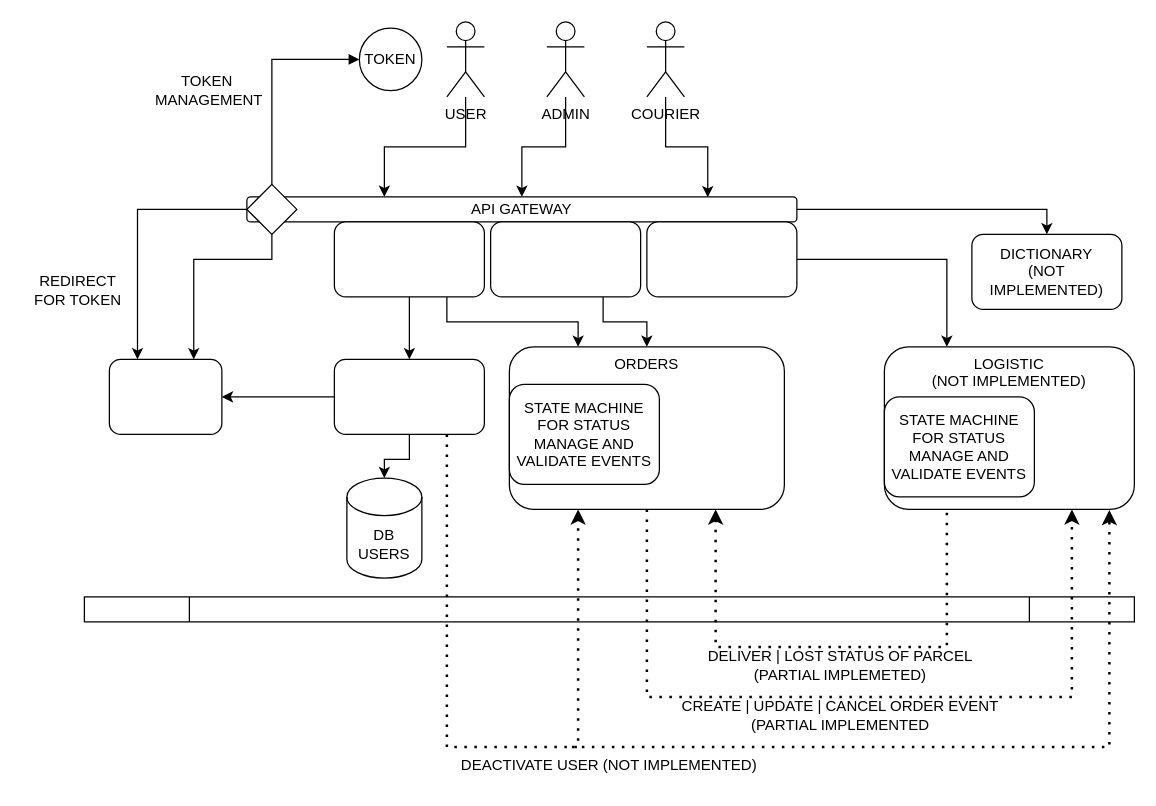
Image size: 1156x806. Some labels were removed from this diagram. Each missing label, with the centre of its shape:
"ADMIN API" goes at (565,259).
"COURIER API" goes at (721,259).
"KEYCLOAK" goes at (165,396).
"MESSAGE BUS (KAFKA)" goes at (608,609).
"USER API" goes at (408,259).
"USERS" goes at (408,396).
